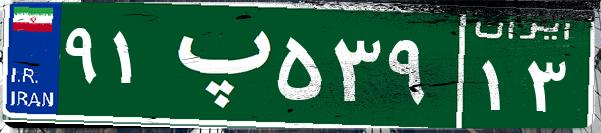1: (475, 38, 525, 113), (110, 28, 158, 105)
3: (330, 28, 385, 110), (525, 38, 570, 115)
5: (273, 28, 330, 110)
9: (385, 28, 445, 110), (57, 26, 110, 107)
پ: (158, 15, 273, 115)
